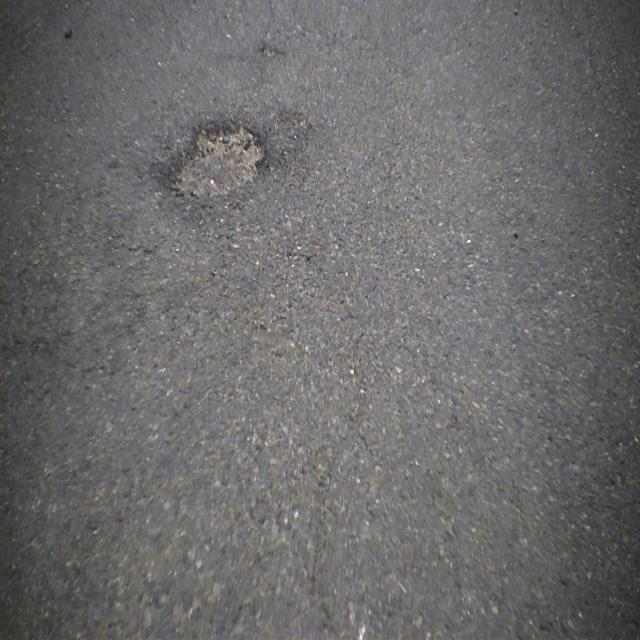Buraco: (153, 119, 272, 208)
